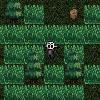Jason: (44, 40, 60, 60)
Obstacle: (63, 5, 84, 24), (4, 5, 24, 24), (24, 64, 43, 84), (64, 65, 84, 84)
Slow: (0, 25, 100, 44), (4, 85, 84, 100), (4, 44, 44, 64), (0, 64, 24, 84), (43, 64, 64, 84), (64, 44, 84, 64), (24, 5, 44, 24), (84, 64, 100, 84), (84, 5, 100, 24)
